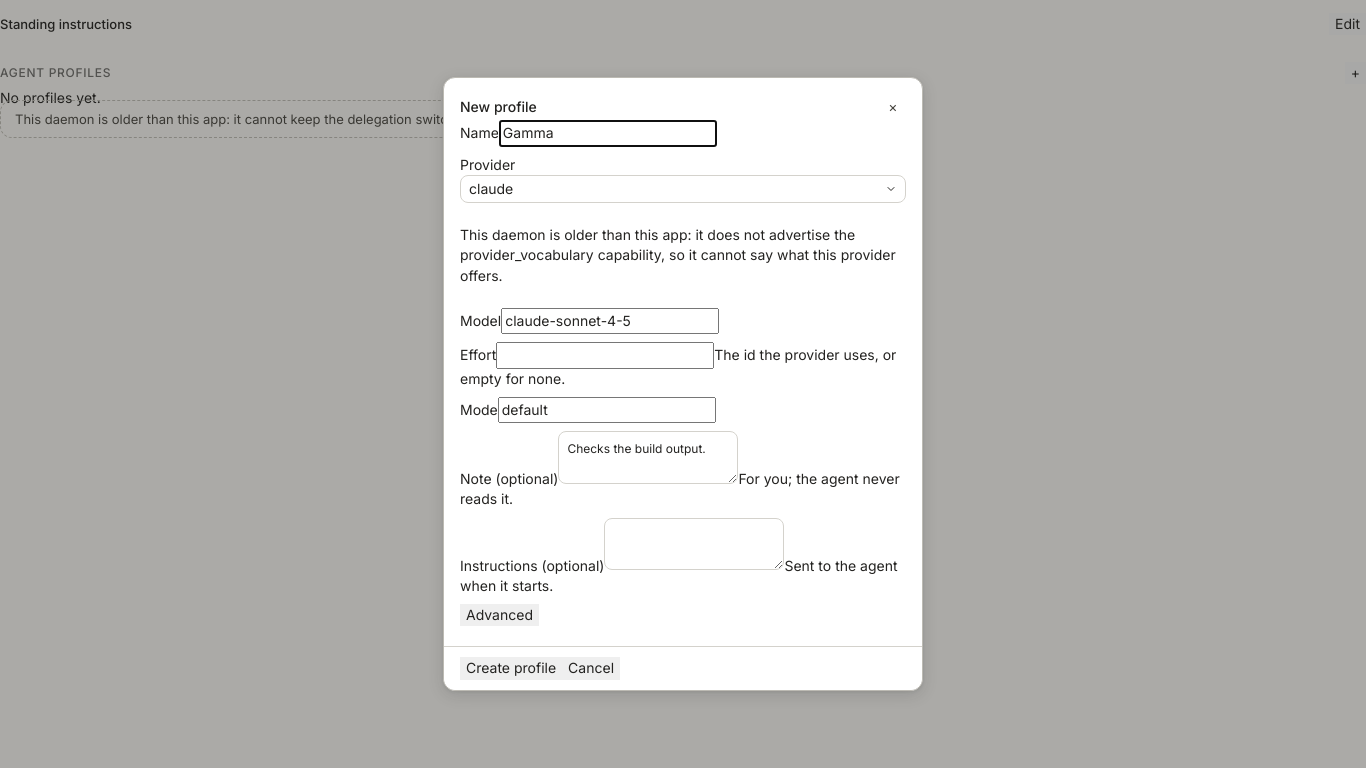
Test case: Settings agents panel — new profile form: create and save › keeps the draft on screen under its error when the create is refused
Click the button "Create profile".
click(511, 668)  # box [460,657,562,680]
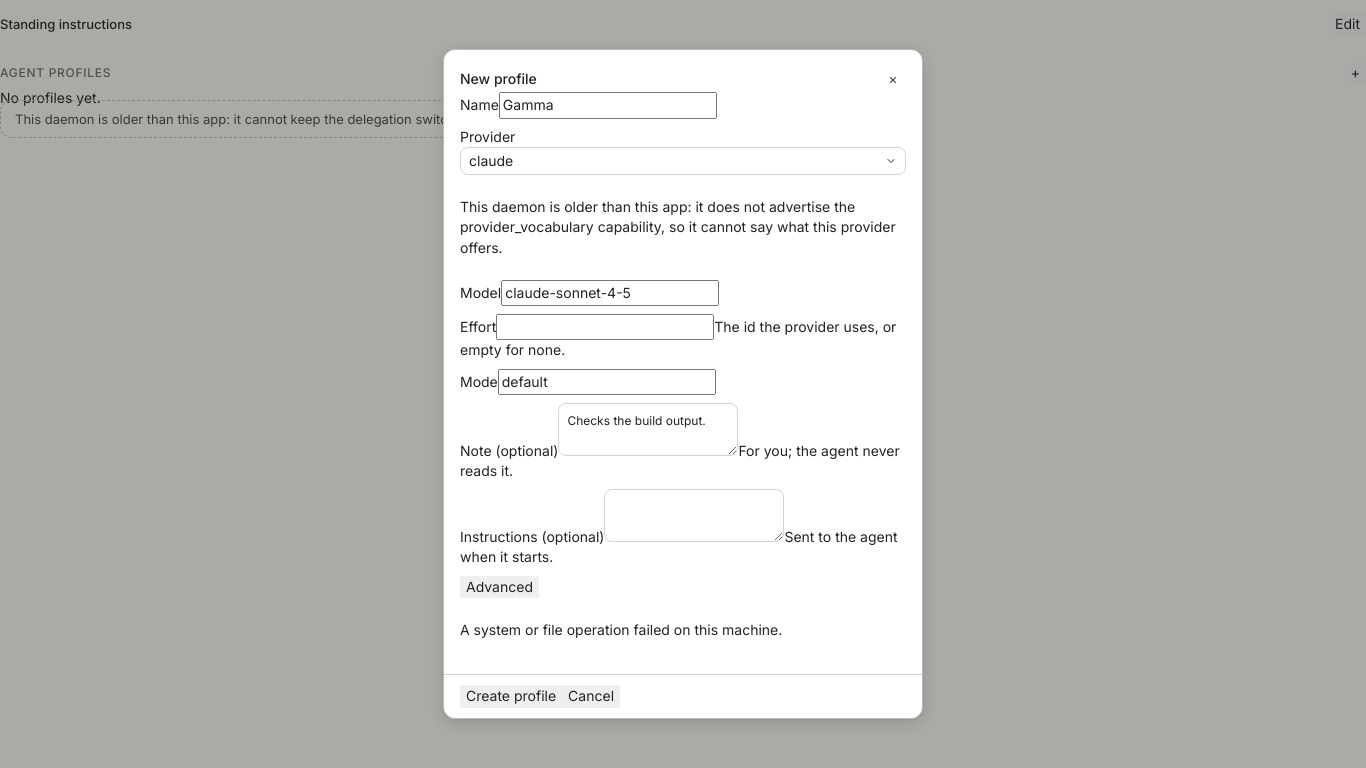
Now the message "A system or file operation failed on this machine." is shown, box [460,620,906,640]
Click the button "Create profile".
click(511, 697)  # box [460,685,562,708]
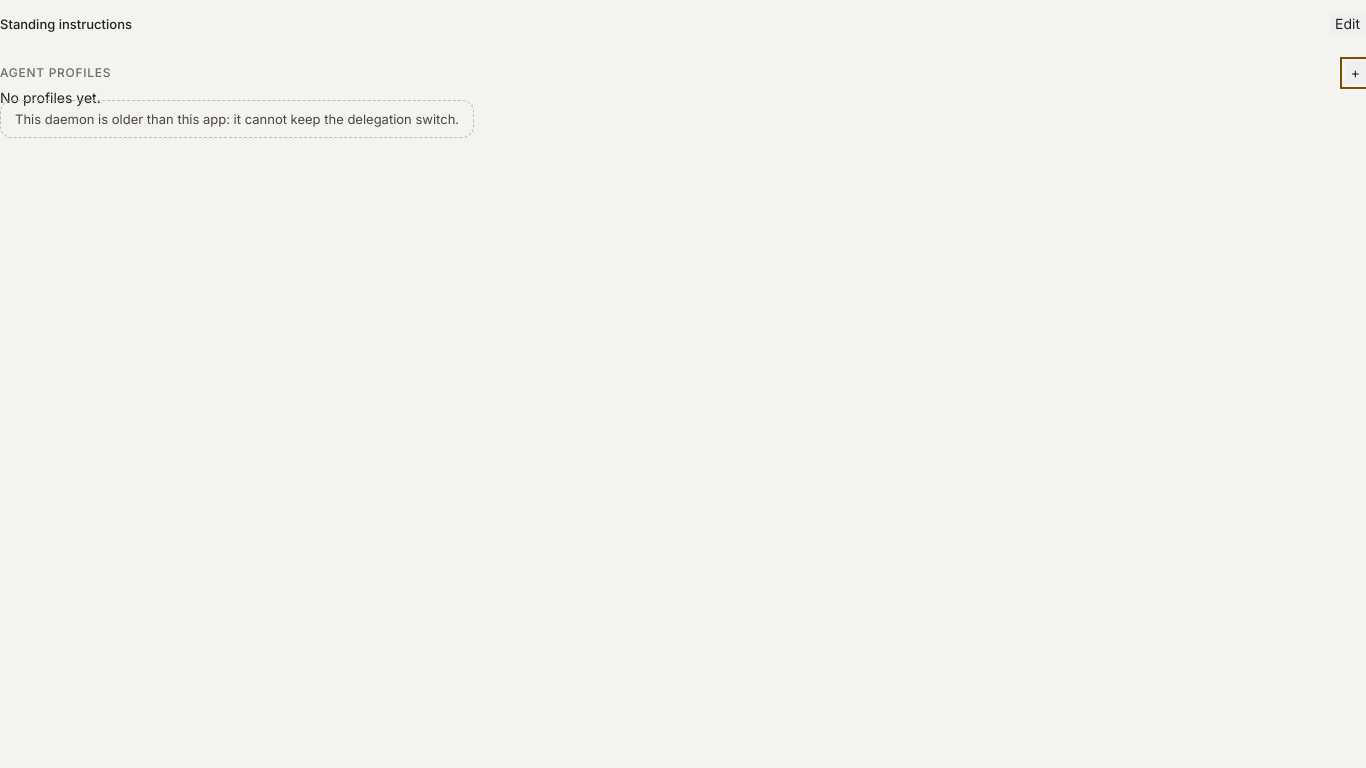
Now the element with class "agent-profile-create" is gone
